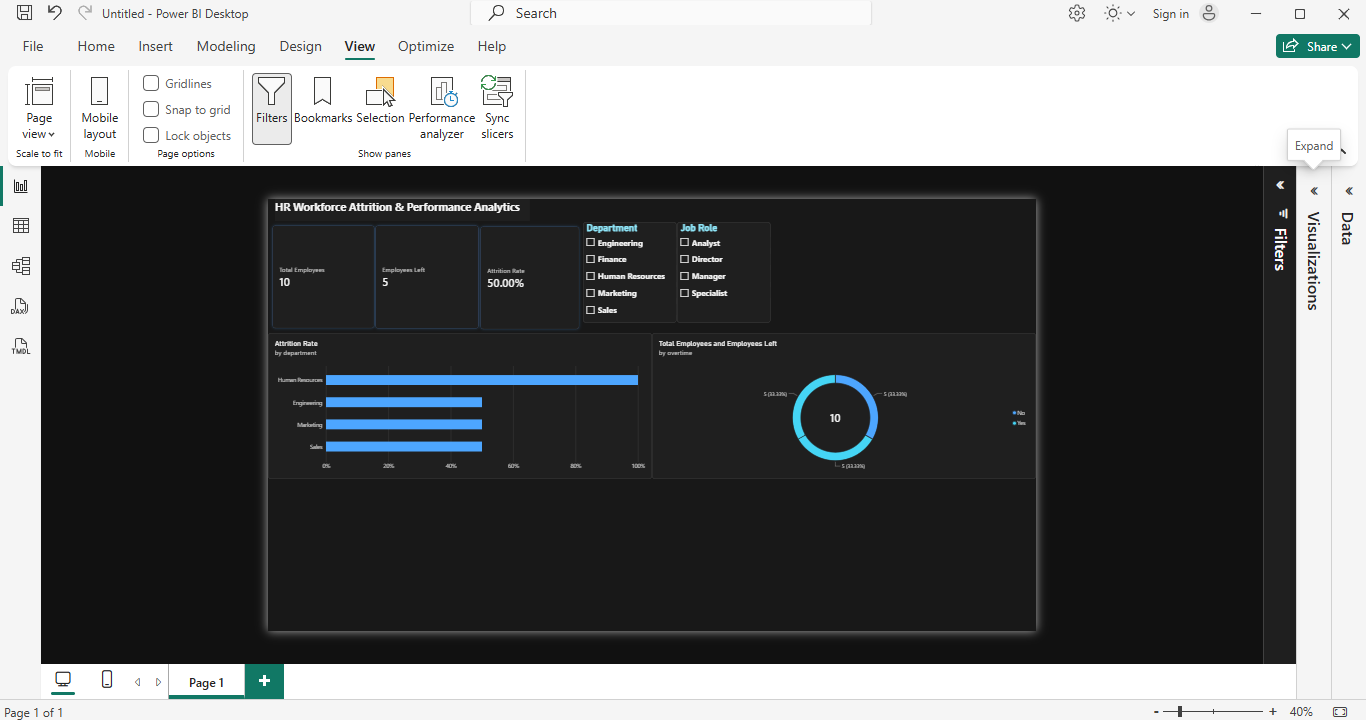

The dashboard page shown, as its layout file describes it:
{"tool":"powerbi","page":{"name":"Page 1","canvas":[1920,1080],"ordinal":0},"visuals":[{"type":"cardVisual","fields":{"Data":["public employee_workforce_data (2).Total Employees"]},"box":[0,55.4,277.2,279.7],"z":0},{"type":"cardVisual","fields":{"Data":["public employee_workforce_data (2).Employees Left"]},"box":[257,55.4,280,280],"z":1000},{"type":"cardVisual","fields":{"Data":["public employee_workforce_data (2).Attrition Rate"]},"box":[519.1,58,269.6,279.7],"z":2000},{"type":"clusteredBarChart","fields":{"Category":["public employee_workforce_data (2).department"],"Y":["public employee_workforce_data (2).Attrition Rate"]},"box":[0,335.1,960,365.4],"z":3000},{"type":"donutChart","fields":{"Category":["public employee_workforce_data (2).overtime"],"Y":["public employee_workforce_data (2).Total Employees","public employee_workforce_data (2).Employees Left"]},"box":[960,335.1,960,365.4],"z":4000},{"type":"slicer","fields":{"Values":["public employee_workforce_data (2).department"]},"box":[787.2,58.6,234.2,251.6],"z":4001},{"type":"slicer","fields":{"Values":["public employee_workforce_data (2).job_role"]},"box":[1021.4,58.6,234.2,251.6],"z":4002},{"type":"textbox","box":[17.6,0,637.5,55.4],"z":4003}]}

Visuals, with their boxes on the page's 1920x1080 design canvas (x1, y1, x2, y2). These are canvas units, not pixel positions in the 1366x720 screenshot, which may show the page scaled, cropped or inside an application window:
cardVisual - public employee_workforce_data (2).Total Employees: crop(0, 55, 277, 335)
cardVisual - public employee_workforce_data (2).Employees Left: crop(257, 55, 537, 335)
cardVisual - public employee_workforce_data (2).Attrition Rate: crop(519, 58, 789, 338)
clusteredBarChart - public employee_workforce_data (2).department x public employee_workforce_data (2).Attrition Rate: crop(0, 335, 960, 700)
donutChart - public employee_workforce_data (2).overtime x public employee_workforce_data (2).Total Employees: crop(960, 335, 1920, 700)
slicer - public employee_workforce_data (2).department: crop(787, 59, 1021, 310)
slicer - public employee_workforce_data (2).job_role: crop(1021, 59, 1256, 310)
textbox: crop(18, 0, 655, 55)
